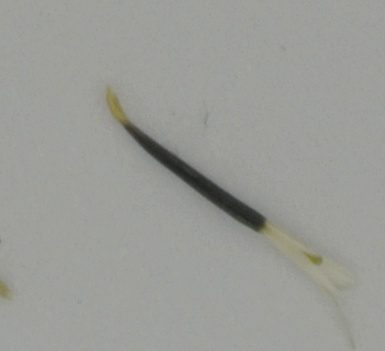เมล็ดดีเรียวยาว: (103, 84, 361, 349)
